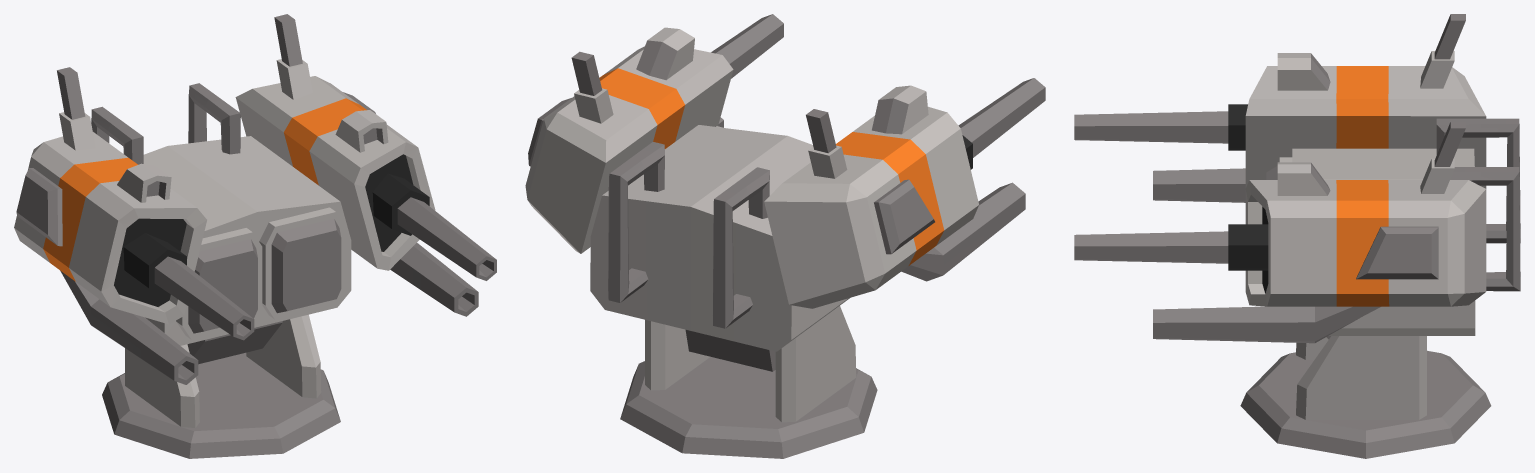
File: scifi_scifi-turret-head-dual-heavy-big.fbx
3 renders of one model, left to right at view 1: azimuth 30°, elevation 25°; view 2: azimuth 150°, elevation 25°; view 3: azimuth 270°, elevation 25°, orthographic. The views are drawn at different scales.
Visible parts, largest first — view 1: scifi_scifi_turret_head_dual_heavy_big; view 2: scifi_scifi_turret_head_dual_heavy_big; view 3: scifi_scifi_turret_head_dual_heavy_big.
Boxes of the visible parts, x1,y1,x2,y2 form: scifi_scifi_turret_head_dual_heavy_big: [14, 14, 496, 458]; scifi_scifi_turret_head_dual_heavy_big: [525, 14, 1045, 458]; scifi_scifi_turret_head_dual_heavy_big: [1074, 14, 1520, 458].
Size of the model in its own units: 156 by 143 by 172.
